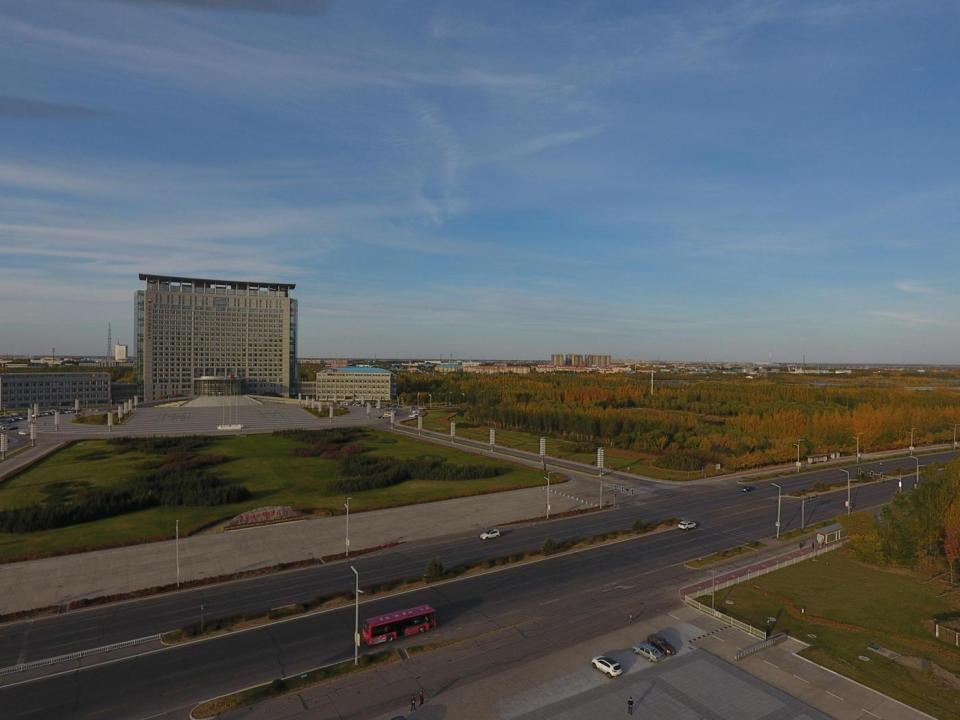bus: (362, 604, 436, 646)
car: (591, 655, 623, 679), (646, 633, 678, 656), (632, 642, 665, 662), (678, 519, 698, 532), (480, 528, 500, 540), (739, 484, 754, 493), (16, 430, 29, 435)
